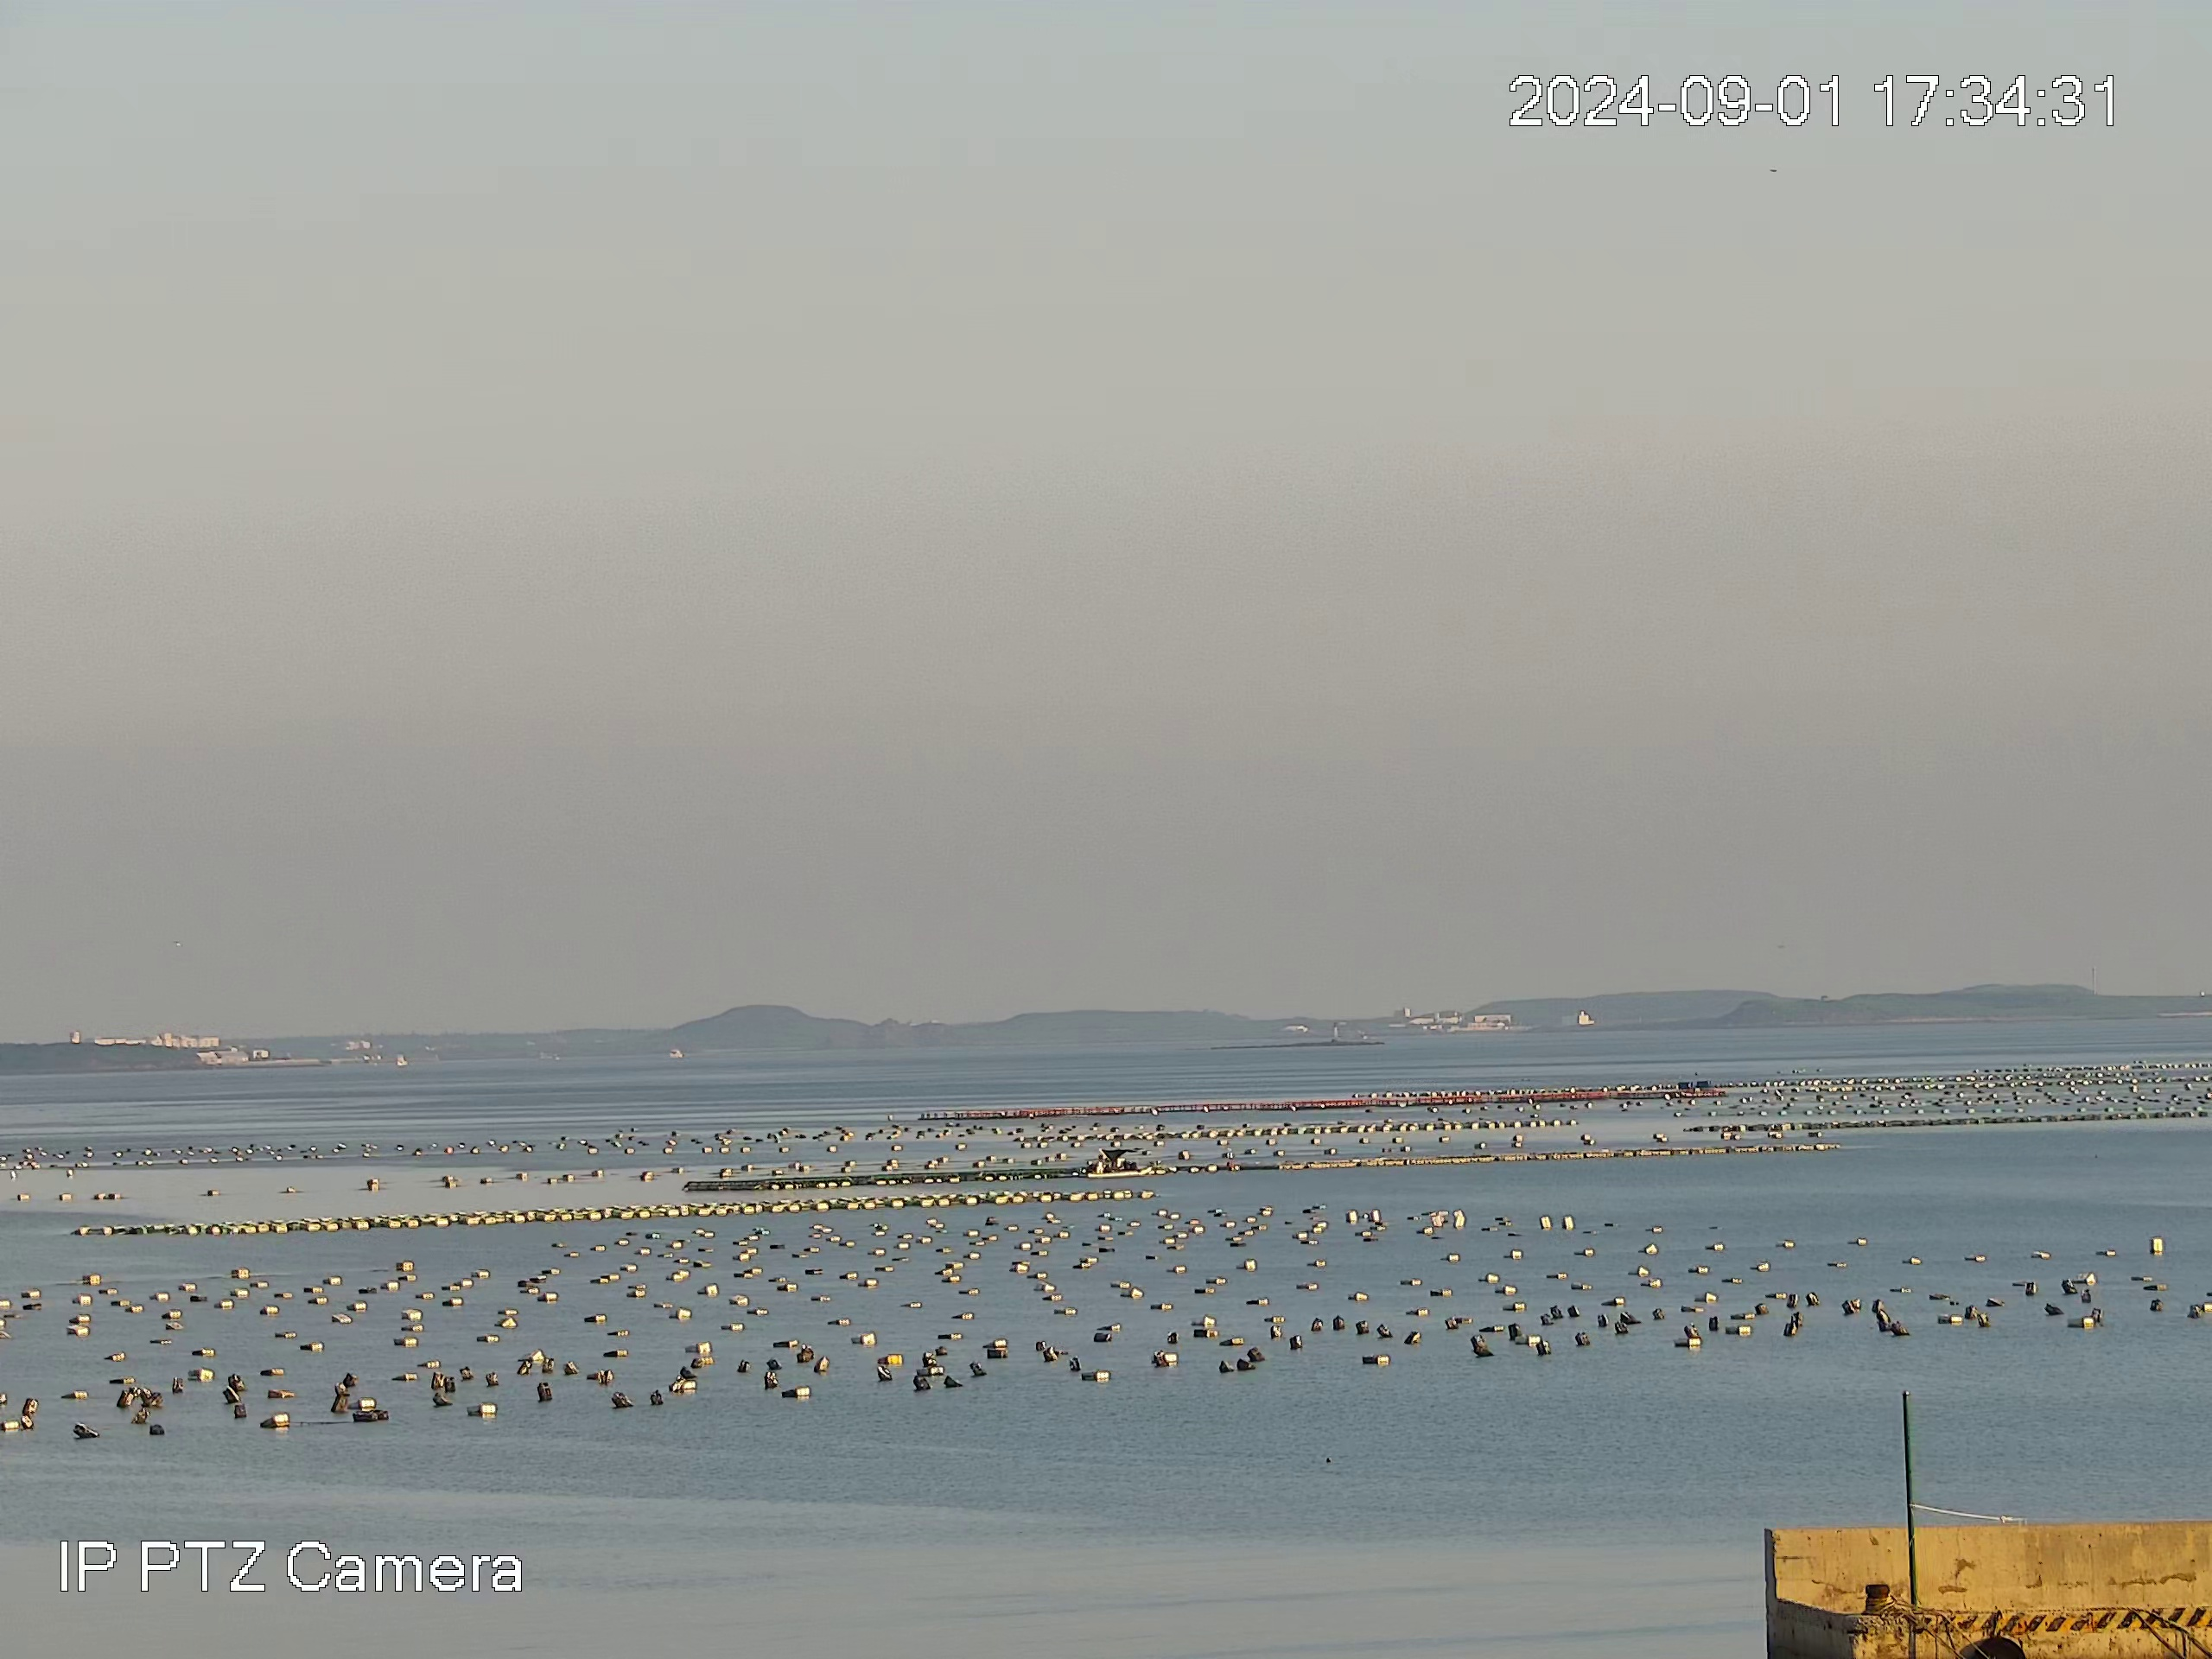boat: (1092, 1145, 1151, 1180)
